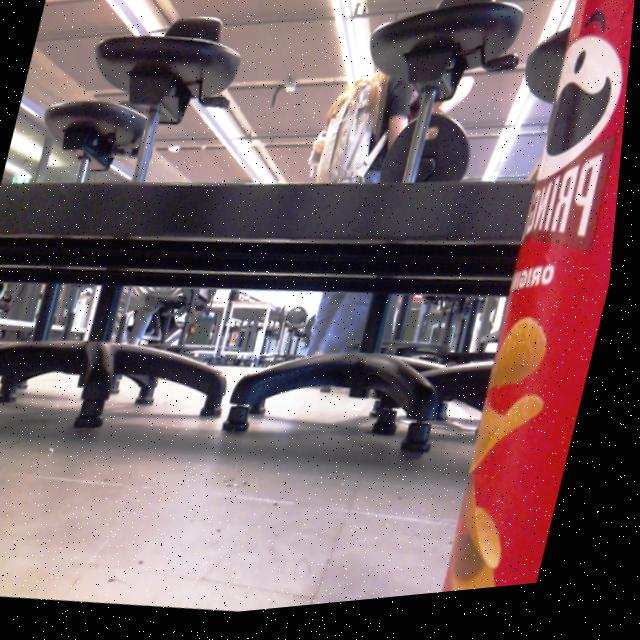redpringles: (426, 0, 637, 604)
